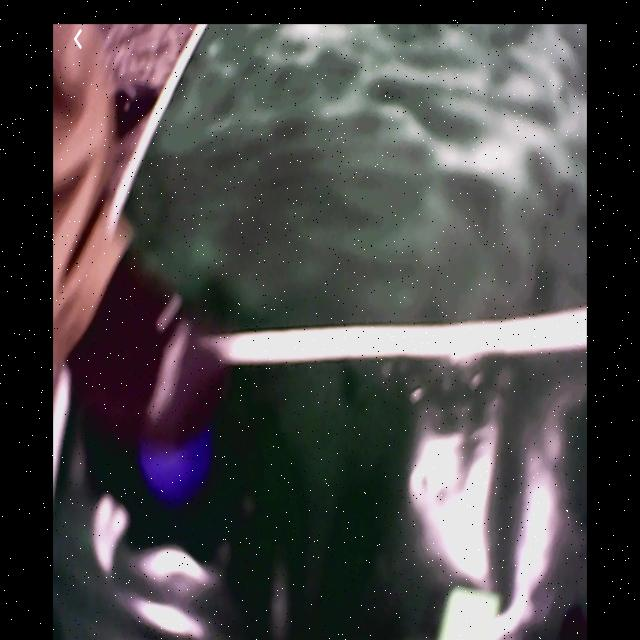ball: (140, 421, 213, 505)
